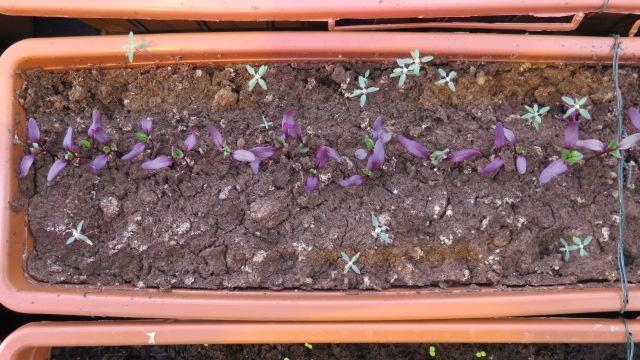weed: (61, 217, 94, 245), (241, 62, 270, 91), (336, 249, 363, 274), (433, 65, 457, 91)
